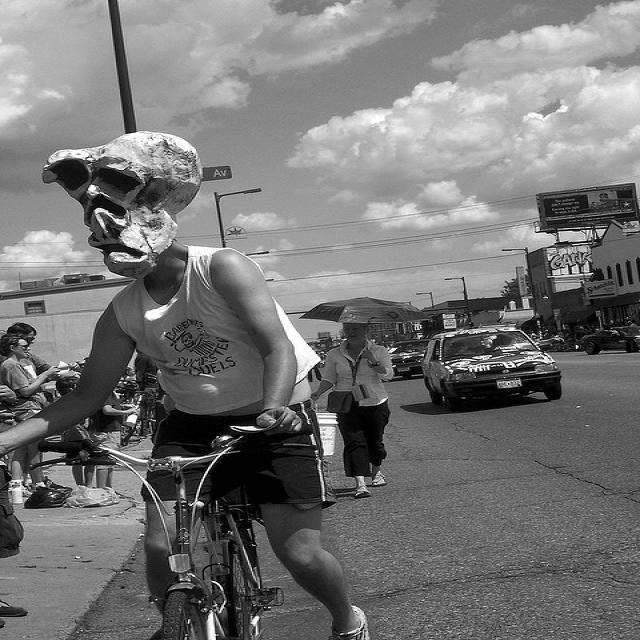Vehicle: (421, 326, 562, 410), (578, 326, 640, 356), (390, 354, 426, 378), (389, 340, 431, 356)
